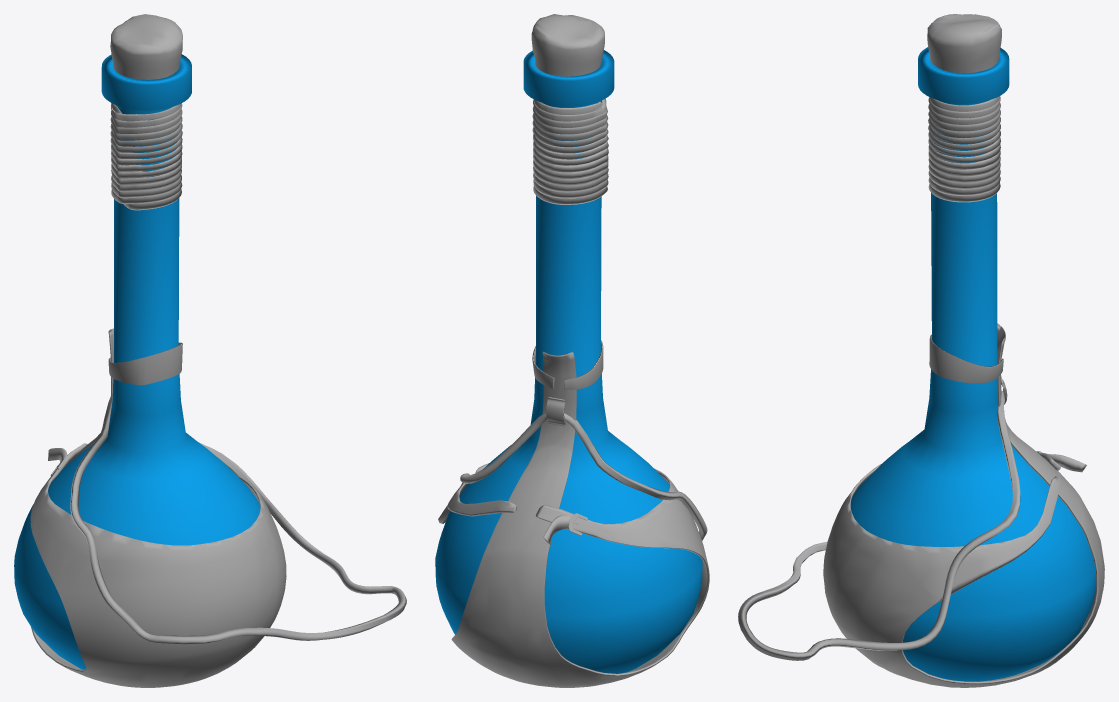
File: SM_PotionBottle.fbx
The picture shows the model from 3 angles, left to right: view 1: azimuth 30°, elevation 25°; view 2: azimuth 150°, elevation 25°; view 3: azimuth 270°, elevation 25°; orthographic projection.
Parts seen in each view (by area): view 1: Bottle_l; view 2: Bottle_l; view 3: Bottle_l.
Boxes of the visible parts, x1,y1,x2,y2 form: Bottle_l: (14, 14, 406, 687); Bottle_l: (435, 14, 709, 687); Bottle_l: (738, 14, 1104, 687).
Size of the model in its own units: 24.01 by 50.58 by 26.17.
